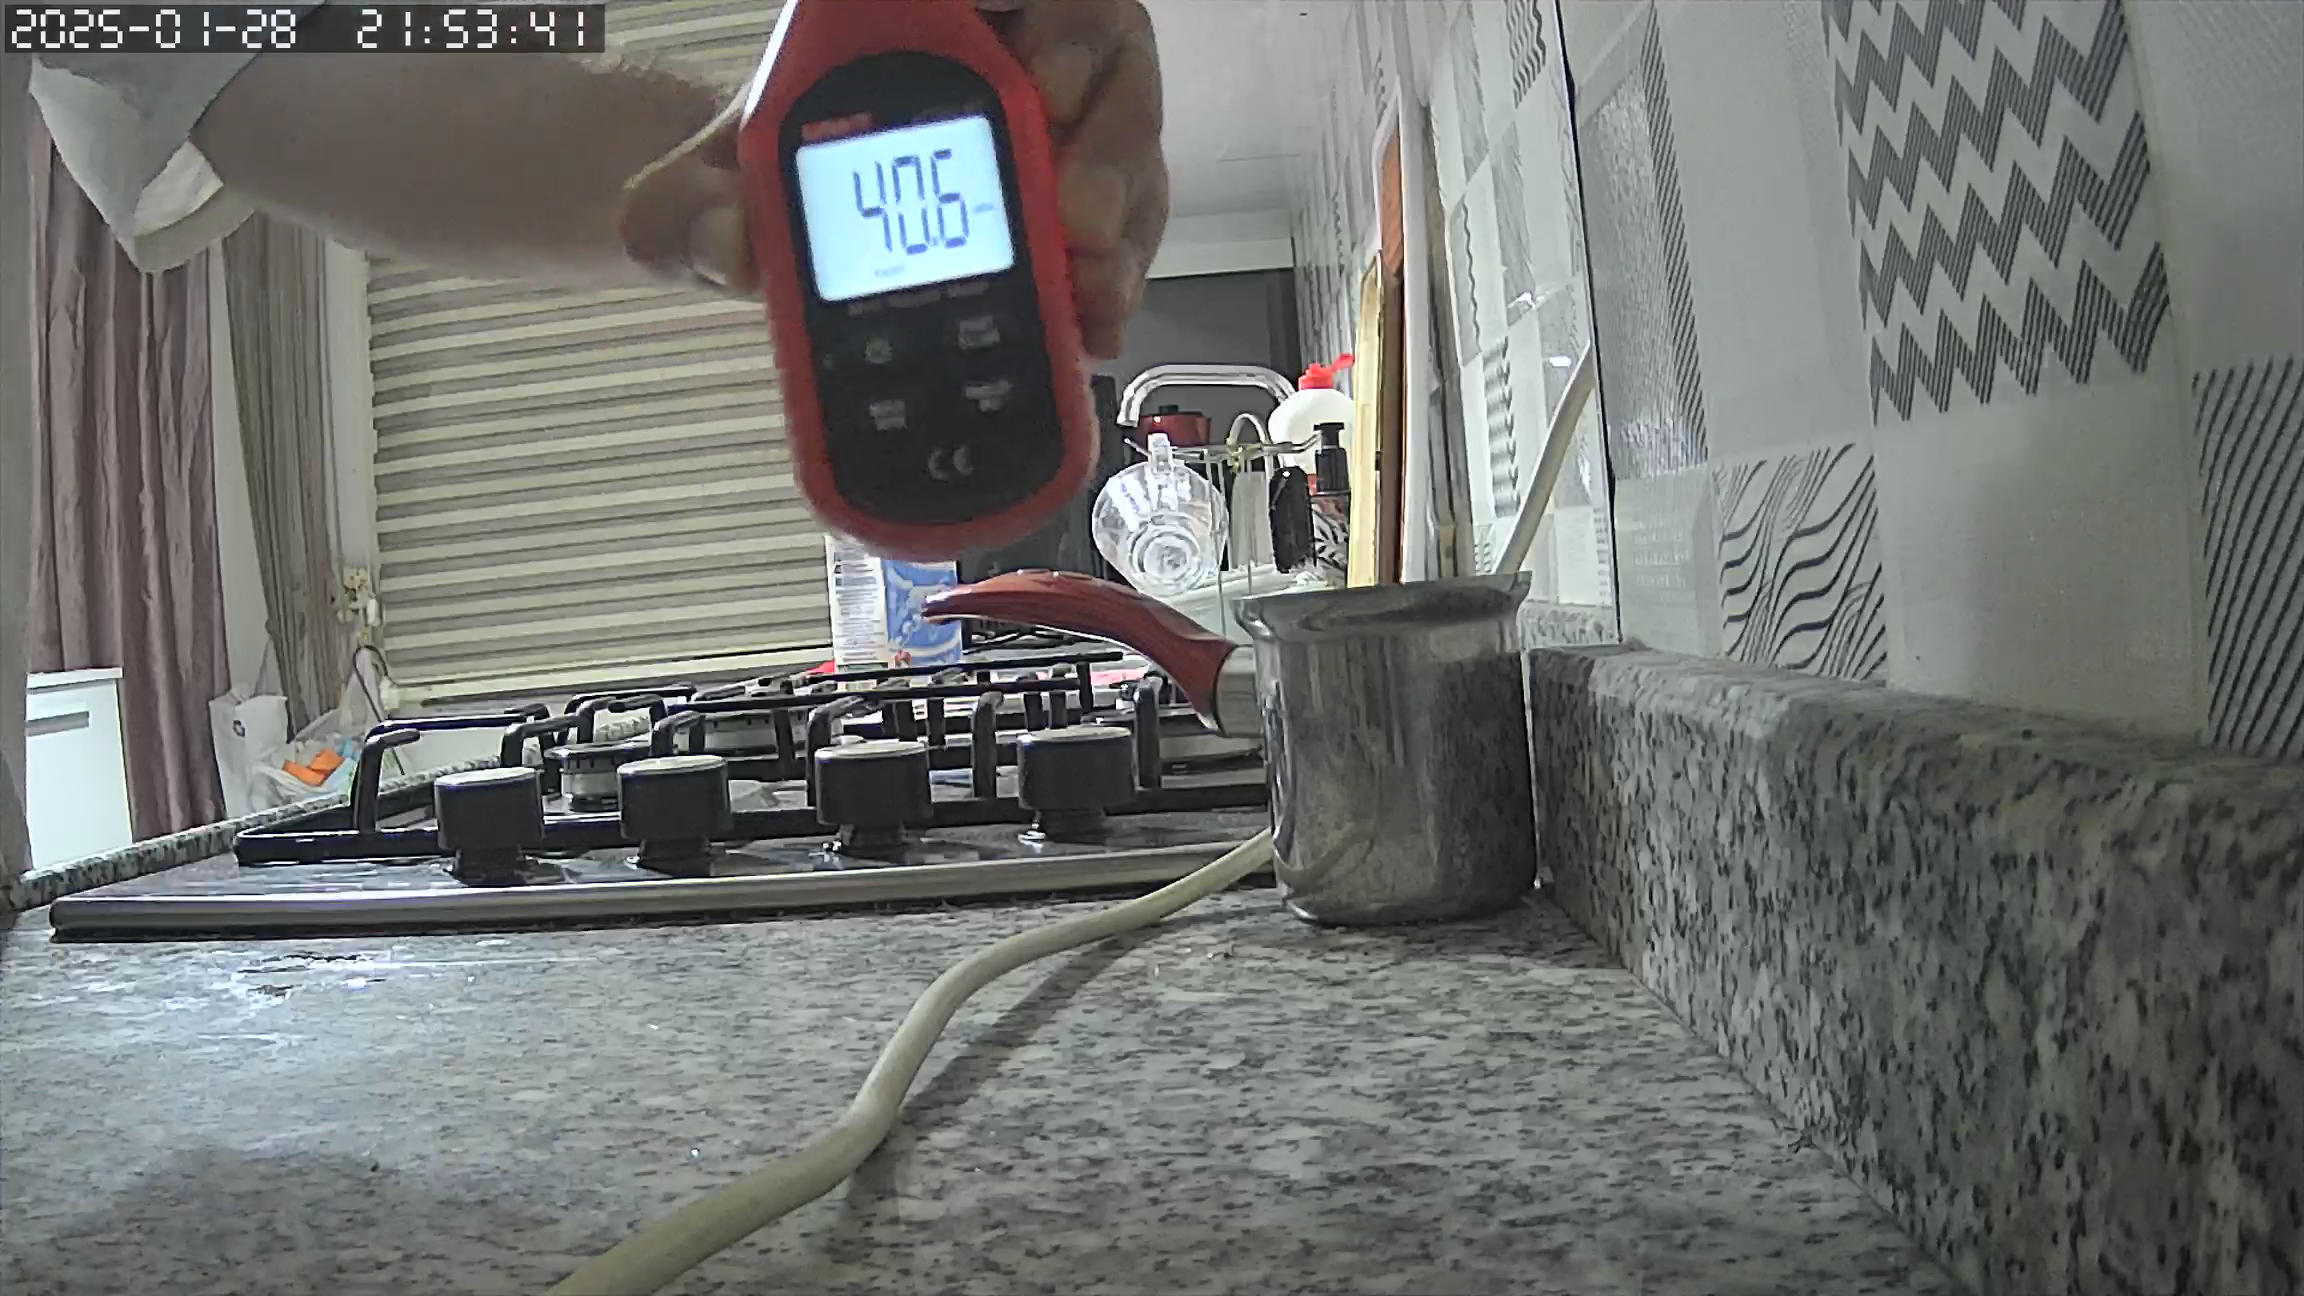screen: (796, 111, 1013, 305)
